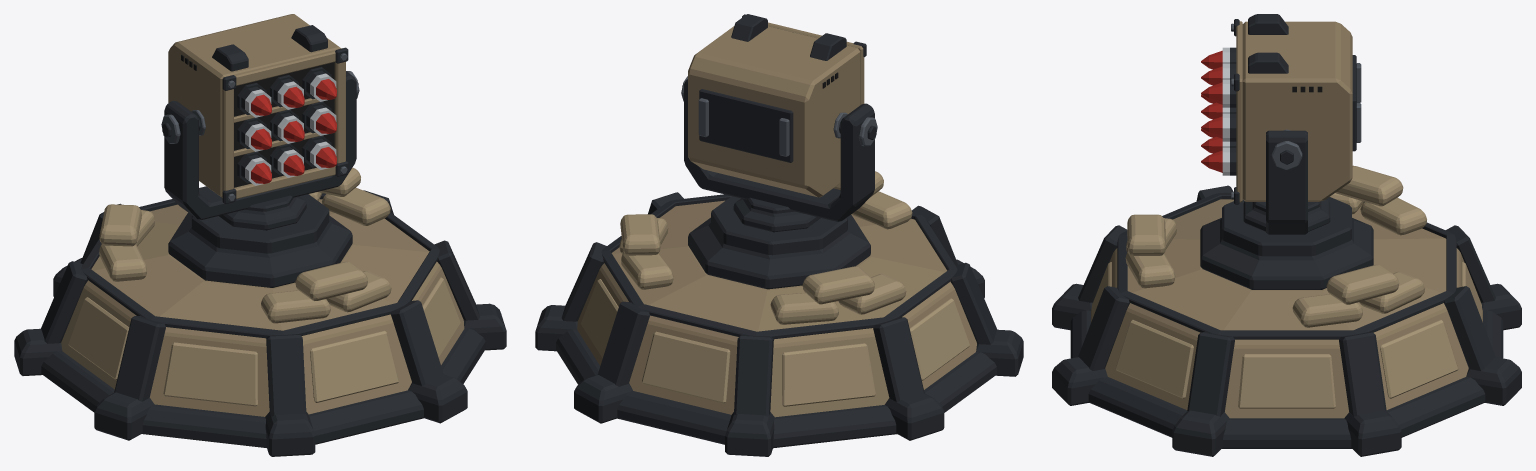
File: rk40-brasa-n3.glb
The picture shows the model from 3 angles, left to right: view 1: azimuth 30°, elevation 25°; view 2: azimuth 150°, elevation 25°; view 3: azimuth 270°, elevation 25°; orthographic projection.
Visible parts, largest first — view 1: casco, gun_pitch, turret_yaw, rocket_05, rocket_02, rocket_08, rocket_03, rocket_09, rocket_01, rocket_06, rocket_07, rocket_04; view 2: casco, gun_pitch, turret_yaw; view 3: casco, gun_pitch, turret_yaw, rocket_06, rocket_09, rocket_03, rocket_01, rocket_02.
Boxes of the visible parts, x1,y1,x2,y2 form: casco: (14,167,506,456); gun_pitch: (168,14,348,203); turret_yaw: (161,71,359,230); rocket_05: (273,112,304,143); rocket_02: (273,78,304,109); rocket_08: (273,146,304,177); rocket_03: (306,70,336,101); rocket_09: (306,138,336,169); rocket_01: (241,86,271,117); rocket_06: (306,104,336,135); rocket_07: (241,154,271,185); rocket_04: (241,120,271,151); casco: (535,171,1023,456); gun_pitch: (688,14,866,197); turret_yaw: (681,76,877,232); casco: (1052,165,1521,456); gun_pitch: (1231,14,1361,204); turret_yaw: (1243,130,1330,234); rocket_06: (1201,113,1236,141); rocket_09: (1201,147,1236,175); rocket_03: (1201,79,1236,107); rocket_01: (1201,47,1236,69); rocket_02: (1201,63,1236,85).
Size of the model in its own units: 1 by 0.755 by 1.
